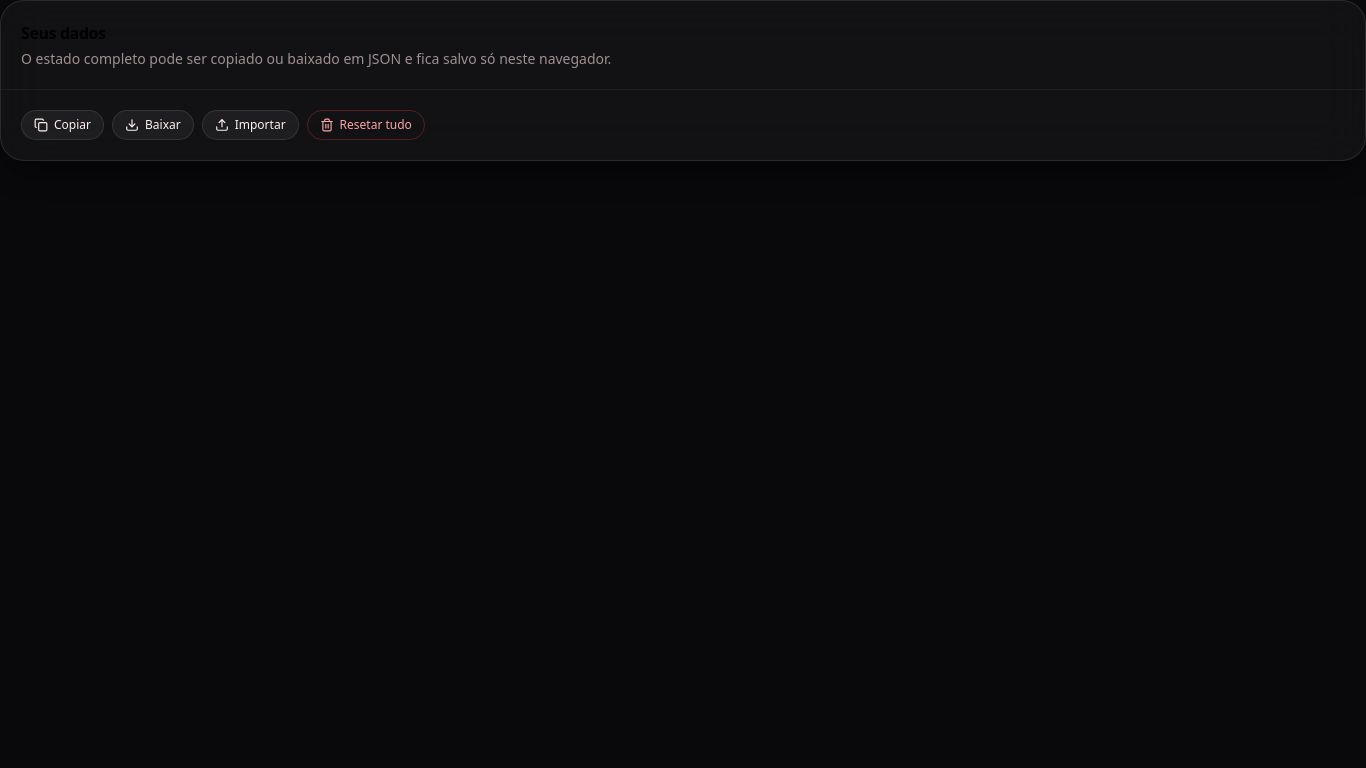
Test: Seus dados — importar › diz o que cada caminho faz e quantas cartas próprias a pessoa tem hoje
The width and height of the screenshot is (1366, 768).
Click the button "Importar" at (250, 125), box [202, 110, 299, 140]
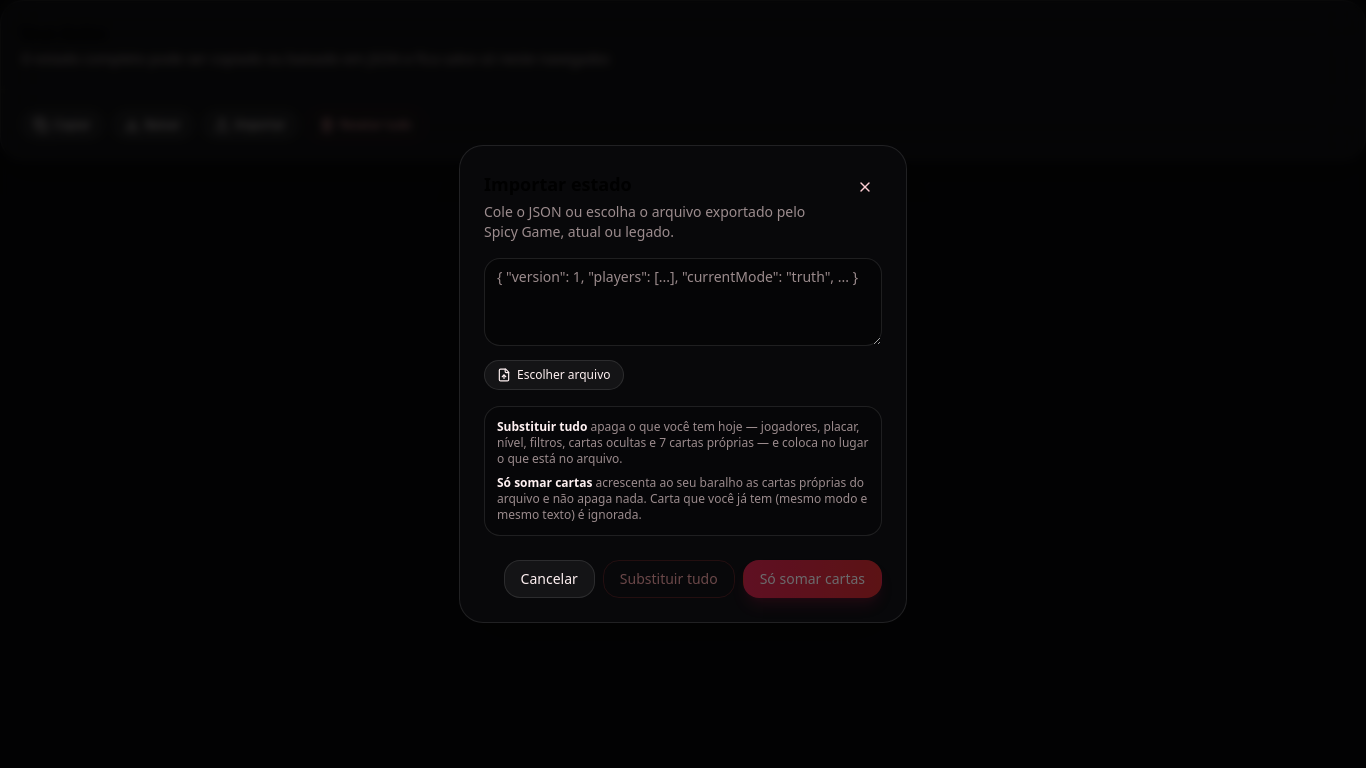
Expected: the text "Substituir tudo" is shown, [497, 418, 587, 435]
Expected: the text "jogadores, placar" is shown, [497, 418, 860, 451]
Expected: the text "7 cartas próprias" is shown, [659, 434, 754, 451]
